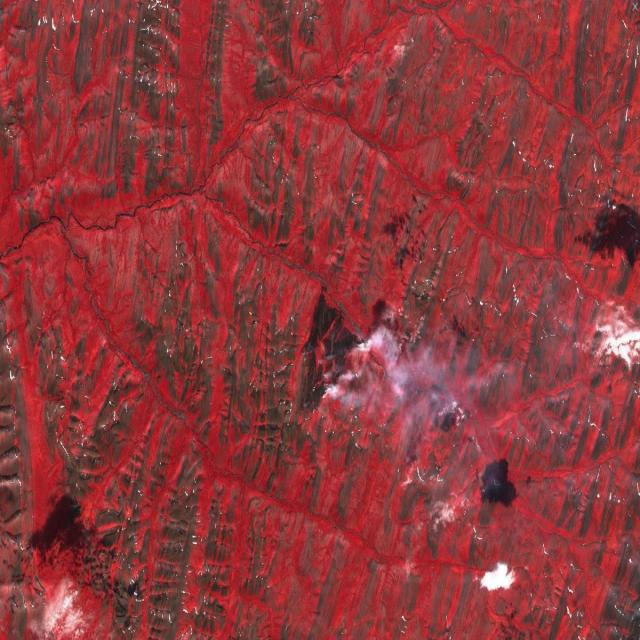fire: (313, 322, 372, 410)
